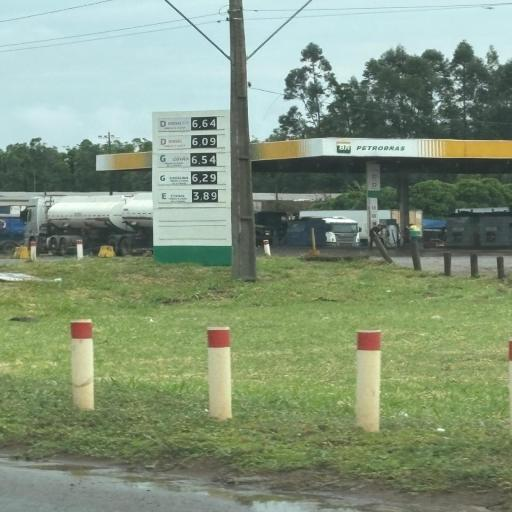ETANOL: (157, 190, 192, 205)
GASOLINA AD: (156, 154, 190, 168)
GASOLINA C: (157, 172, 190, 186)
S10: (158, 118, 190, 133)
S500: (156, 136, 188, 148)
placa: (152, 111, 230, 256)
preco: (192, 117, 217, 131), (191, 135, 217, 148), (191, 153, 217, 166), (192, 172, 217, 184), (193, 190, 218, 202)
